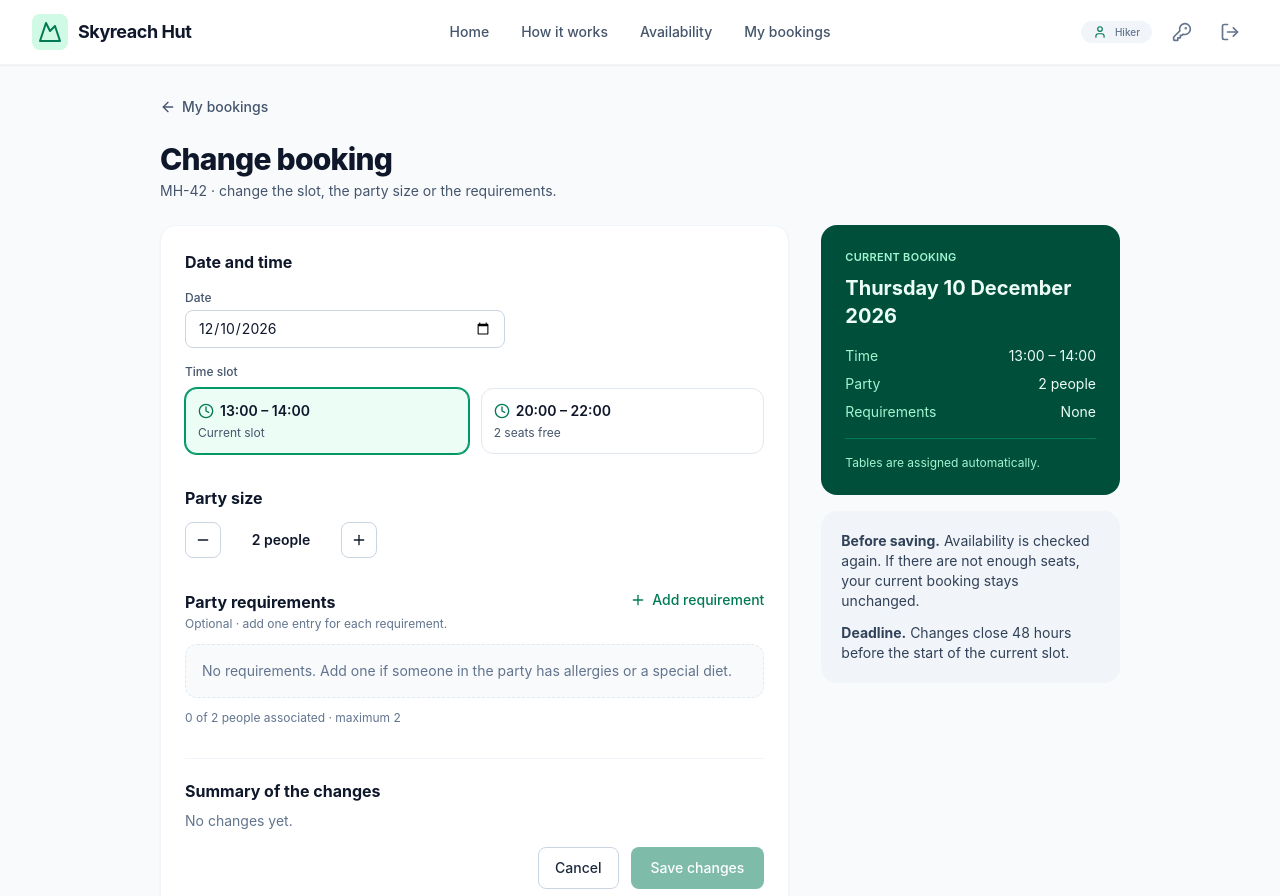
ChangeBooking Flow › shows an amber warning if the update succeeds but the email fails
Expected: the heading "Party size" is shown, [185,488,263,508]
Step 1. Click the button named "Increase party size" → click(359, 540), box [341,522,377,558]
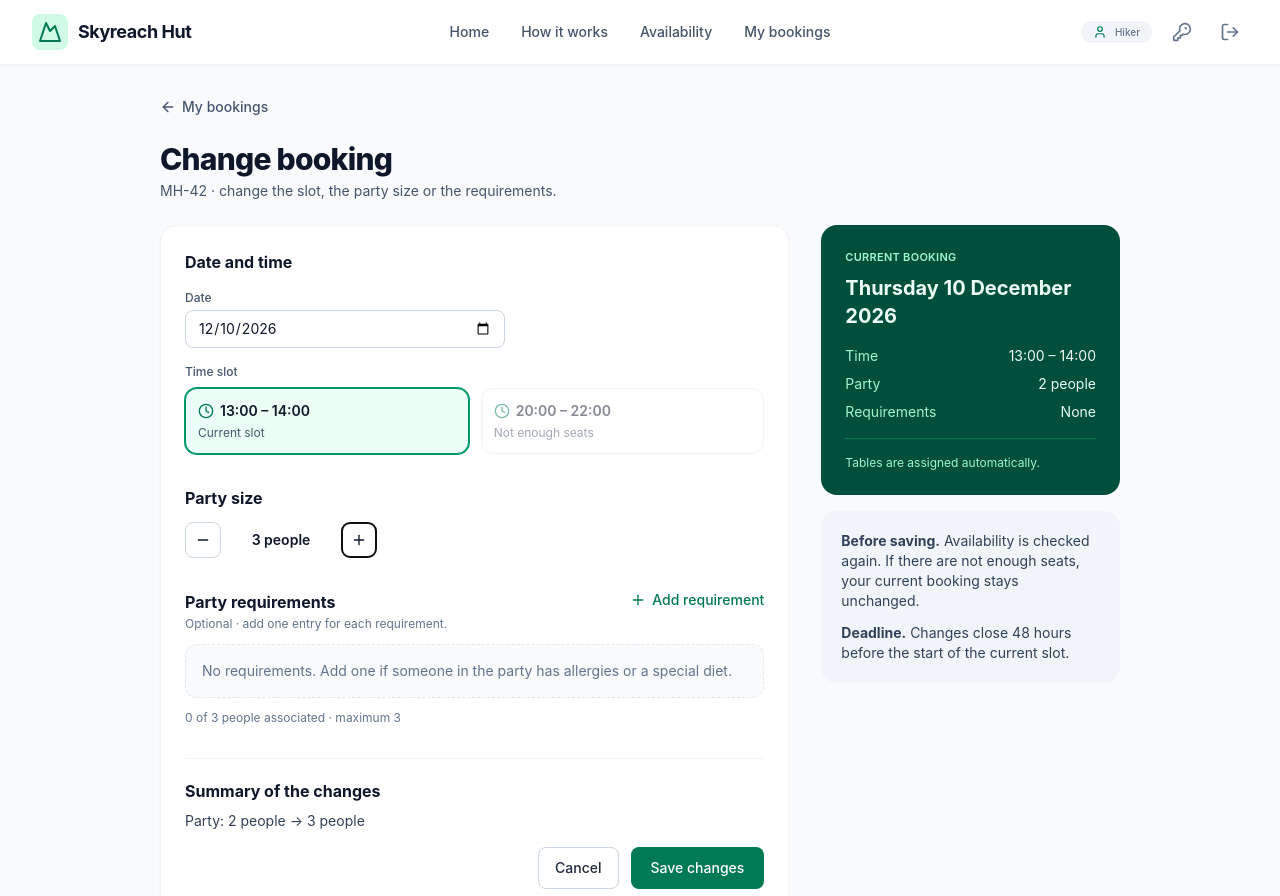
Step 2. Click the button "Save changes" → click(697, 868), box [630,847,764,889]
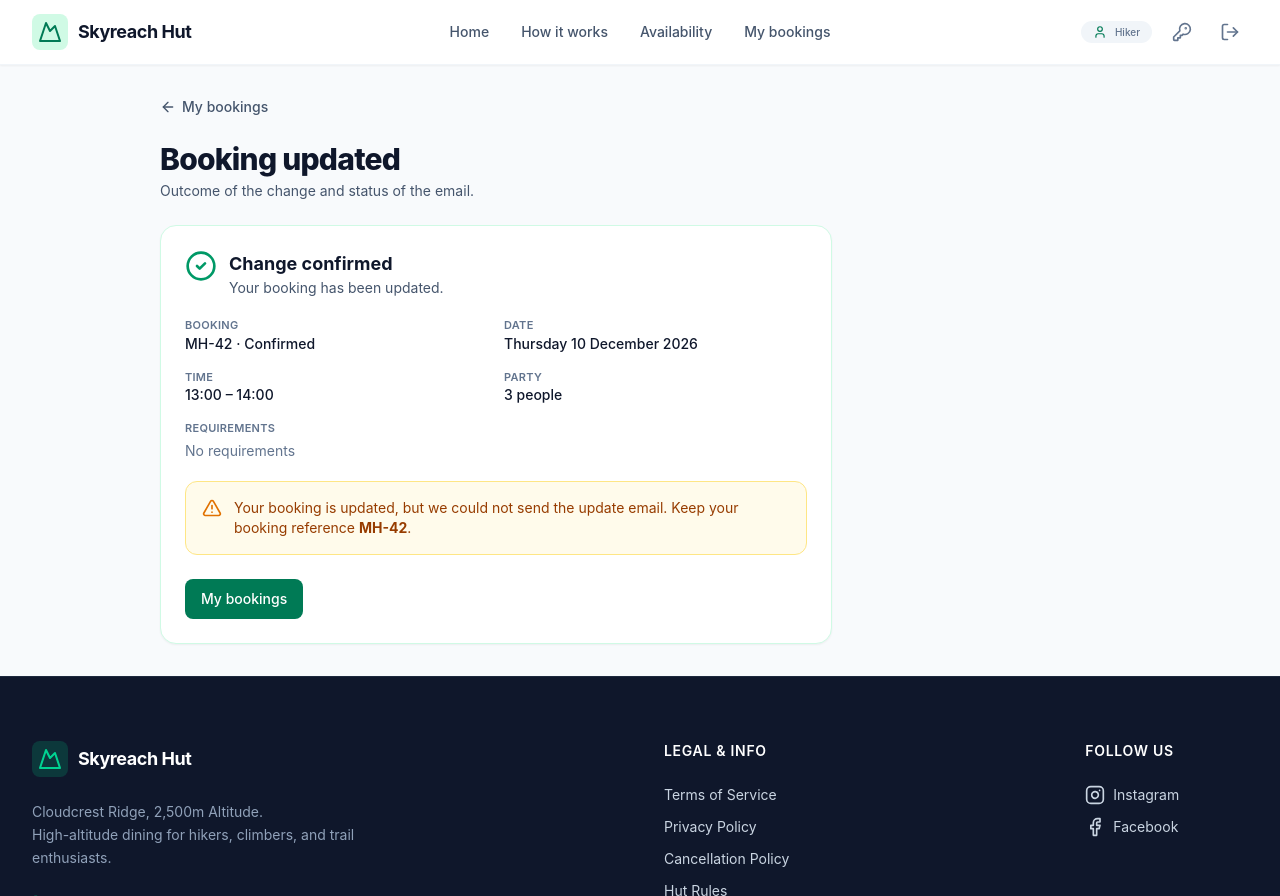
Expected: the heading "Change confirmed" is shown, [229,253,392,274]
Expected: the text "we could not send the update email" is shown, [234,499,738,536]
